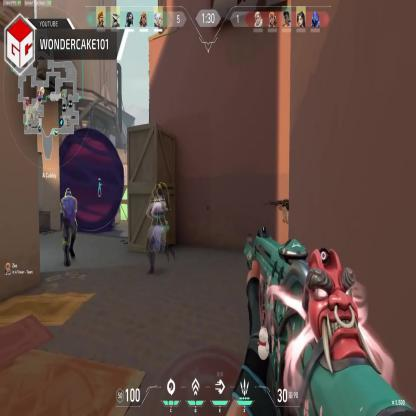enemy: (145, 183, 176, 272), (62, 187, 76, 264)
enemy_head: (155, 188, 162, 200), (65, 187, 72, 197)
